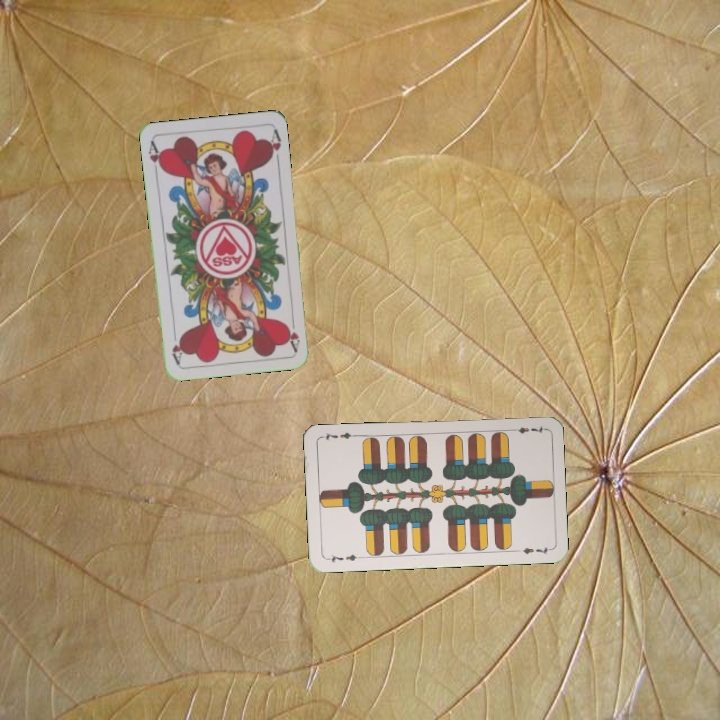E7: (323, 550, 364, 565), (506, 422, 547, 436)
HA: (144, 137, 166, 178), (283, 312, 302, 353)
